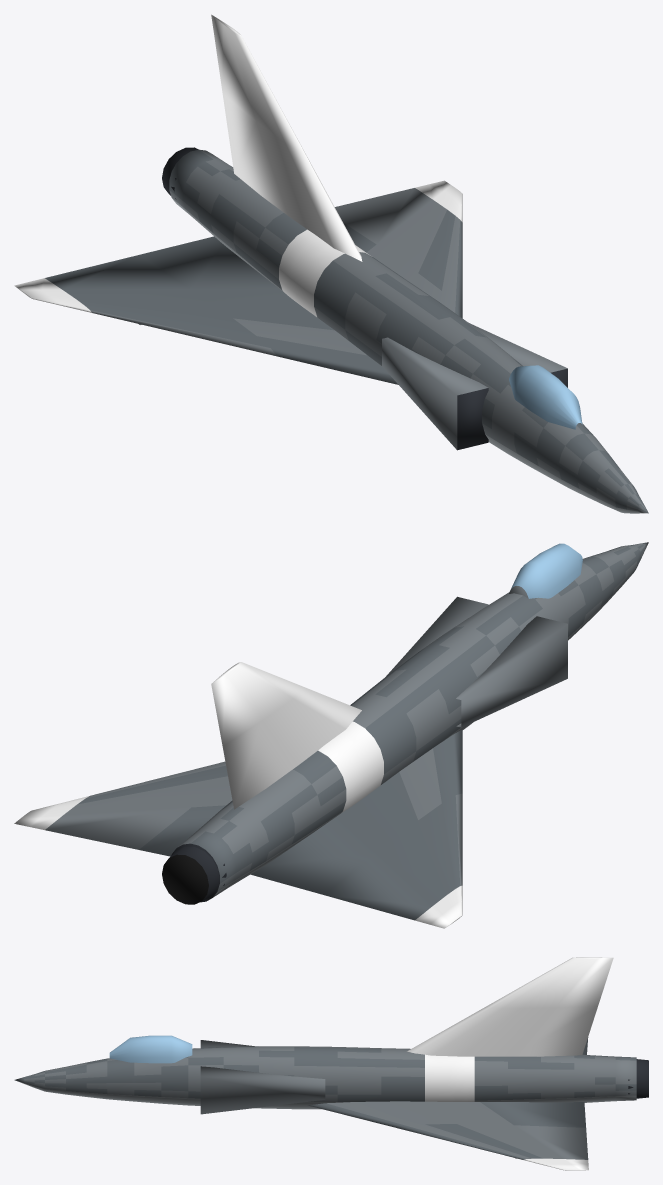
File: mirage3e.glb
The picture shows the model from 3 angles, top to bottom: view 1: azimuth 30°, elevation 25°; view 2: azimuth 150°, elevation 25°; view 3: azimuth 270°, elevation 25°; orthographic projection. The views are drawn at different scales.
Parts seen in each view (by area): view 1: body; view 2: body; view 3: body.
Boxes of the visible parts, x1,y1,x2,y2 form: body: [14, 14, 648, 513]; body: [14, 542, 648, 928]; body: [14, 957, 648, 1170].
Size of the model in its own units: 8.22 by 4.07 by 15.33.
